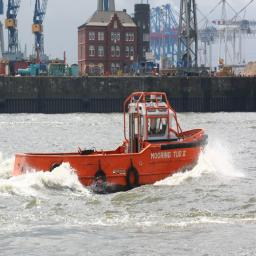tugboat: (6, 89, 214, 205)
